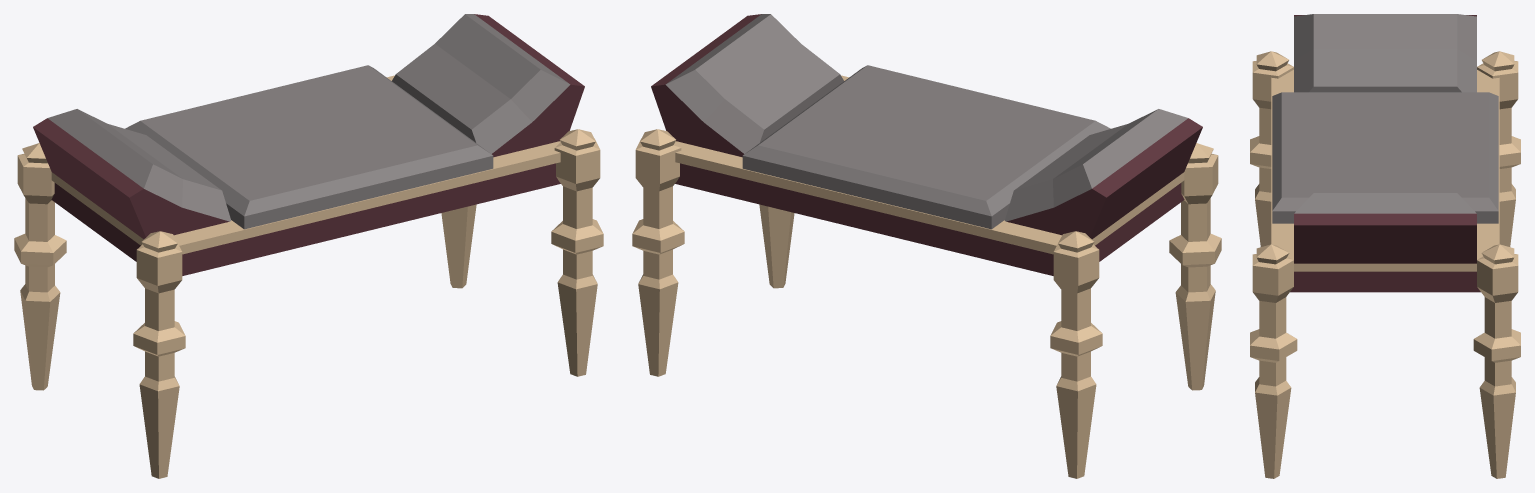
The model's file is SM_Lounger_Empire.fbx.
3 views of the same model, side by side, from view 1: azimuth 30°, elevation 25°; view 2: azimuth 150°, elevation 25°; view 3: azimuth 270°, elevation 25° (orthographic). The views are drawn at different scales.
Visible parts, largest first — view 1: SM_Lounger_Empire; view 2: SM_Lounger_Empire; view 3: SM_Lounger_Empire.
Boxes of the visible parts, x1,y1,x2,y2 form: SM_Lounger_Empire: [14, 14, 603, 478]; SM_Lounger_Empire: [632, 14, 1221, 478]; SM_Lounger_Empire: [1250, 14, 1520, 478].
Size of the model in its own units: 2 by 1.2 by 1.07.
